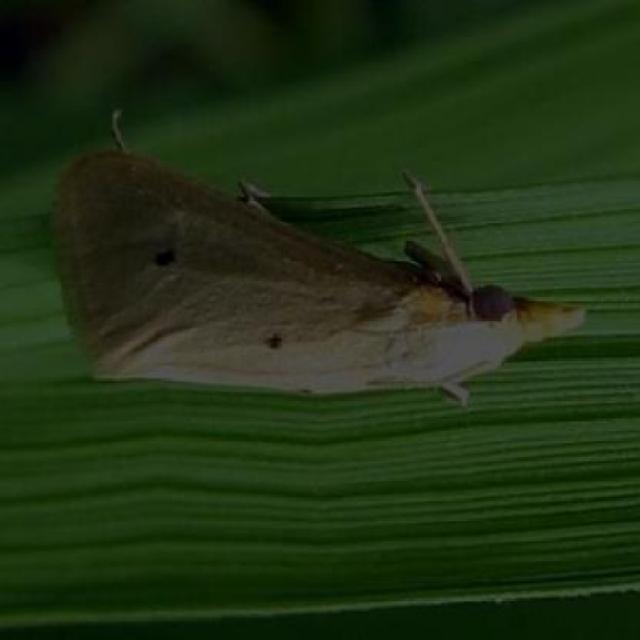stem-borer: (44, 105, 587, 412)
